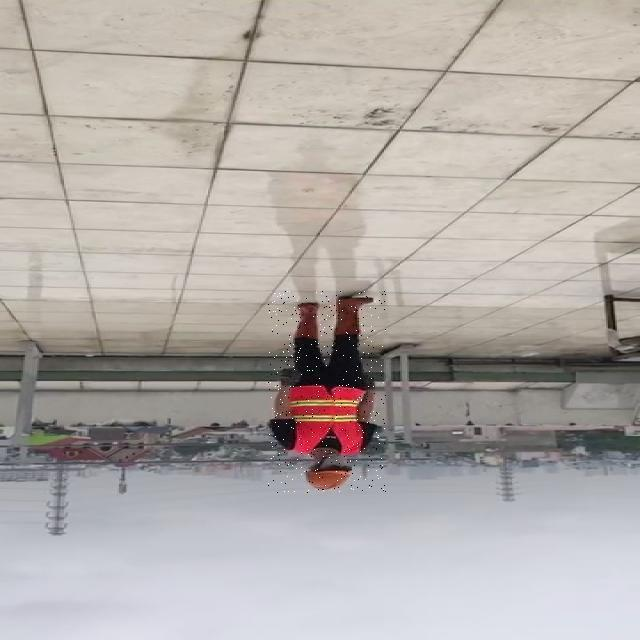Boots: (332, 297, 374, 337), (292, 304, 322, 341)
Gloves: (323, 453, 352, 469)
Helmet: (301, 470, 355, 490)
Vest: (292, 386, 364, 454)
